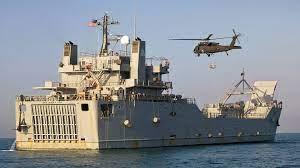Ship: (16, 17, 282, 151)
